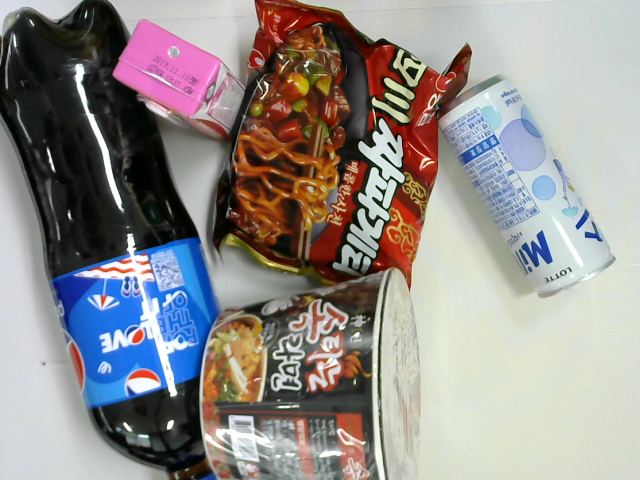HeJangsock: (200, 266, 423, 480)
Milkies_250ml: (437, 77, 619, 300)
Pepsi_Cola_1.5L: (1, 1, 220, 480)
Sichuan_Chapaghetti: (210, 1, 472, 290)
Strawberry_E_Mong: (111, 18, 245, 139)
